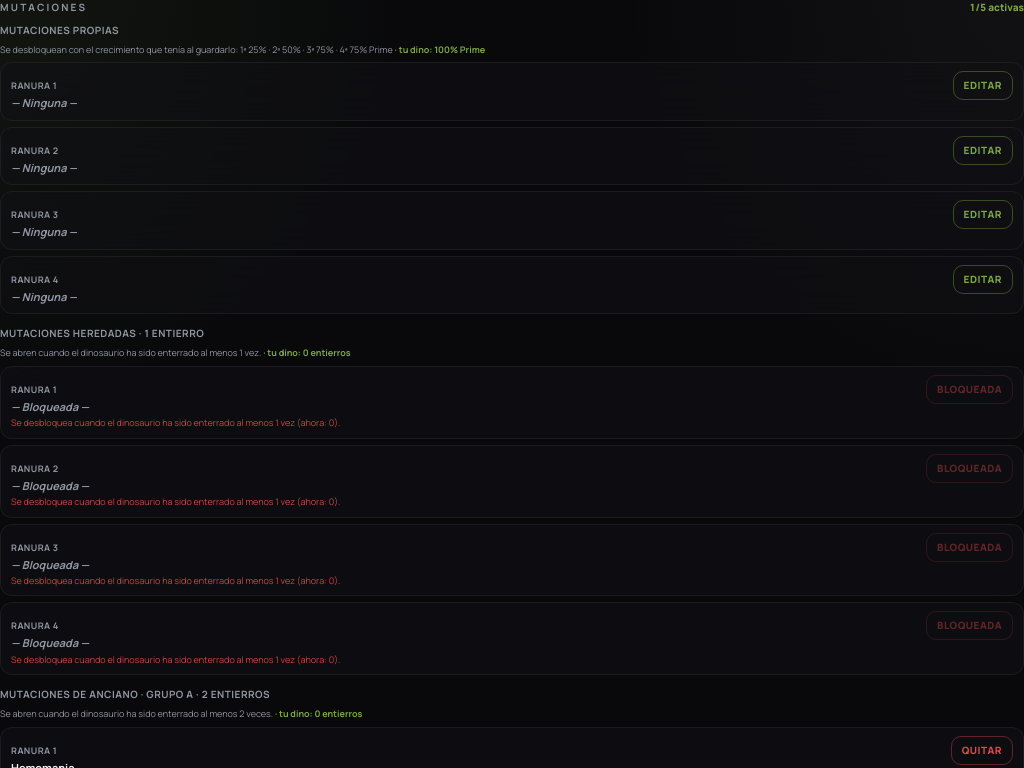
Test: nothing is ever trapped in a closed inherited slot › a closed inherited slot that holds something keeps its way out
Click the button "Quitar" at (982, 750), box [951,736,1013,765]
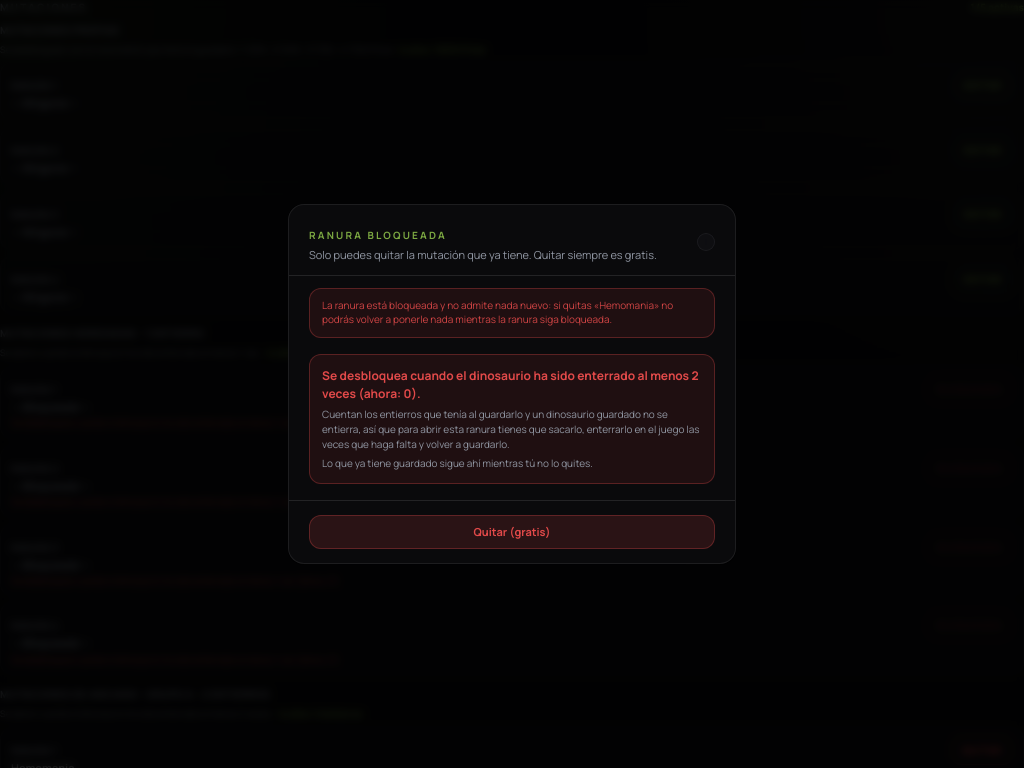
Expected: the button with test id "mutation-picker-clear" is enabled, [309,515,715,549]
